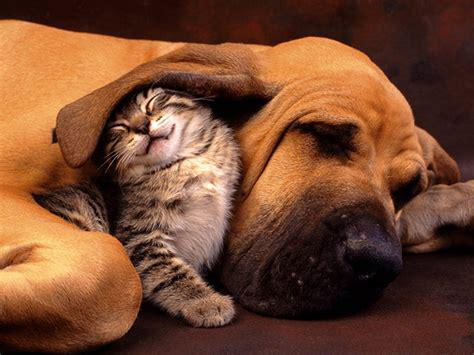cat: (42, 82, 238, 326)
dog: (1, 20, 459, 348)
